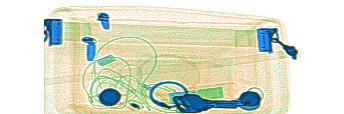USBFlashDisk: (166, 86, 224, 107)
